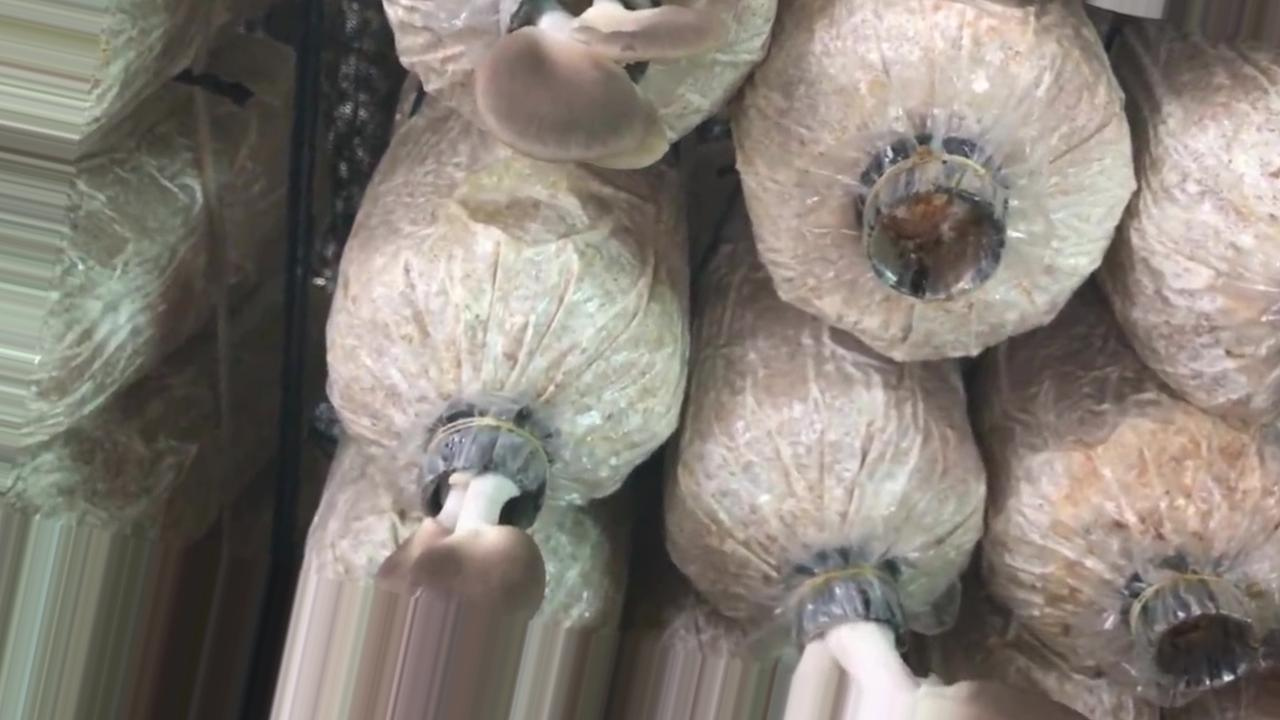nam: (347, 406, 549, 720), (476, 1, 734, 175)
